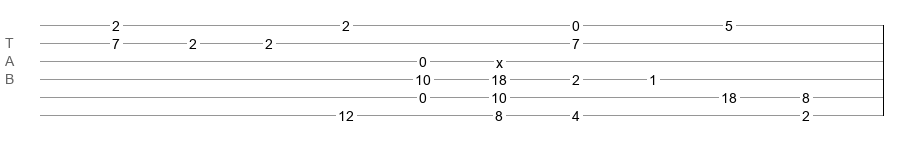0: (419, 54, 427, 64), (419, 90, 427, 100), (572, 18, 580, 28)
1: (649, 72, 657, 82)
10: (415, 72, 431, 82), (491, 90, 507, 100)
12: (338, 108, 354, 118)
18: (491, 72, 507, 82), (721, 90, 737, 100)
2: (112, 18, 120, 28), (189, 36, 197, 46), (265, 36, 273, 46), (342, 18, 350, 28), (572, 72, 580, 82), (802, 108, 810, 118)
4: (572, 108, 580, 118)
5: (725, 18, 733, 28)
7: (112, 36, 120, 46), (572, 36, 580, 46)
8: (495, 108, 503, 118), (802, 90, 810, 100)
x: (496, 55, 503, 63)
